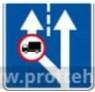road_sign: (2, 1, 95, 92)
